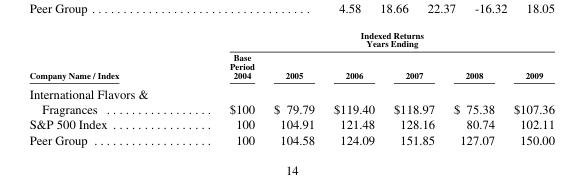table: (28, 29, 553, 146)
table column: (28, 29, 188, 146), (188, 29, 263, 146), (263, 29, 323, 146), (323, 29, 383, 146), (383, 29, 443, 146), (443, 29, 503, 146), (503, 29, 553, 146)
table column header: (28, 29, 553, 83)
table row: (28, 50, 553, 83), (28, 83, 553, 116), (28, 29, 553, 50), (28, 116, 553, 131), (28, 131, 553, 146)
table spanning cell: (28, 29, 188, 83), (188, 29, 553, 50)
